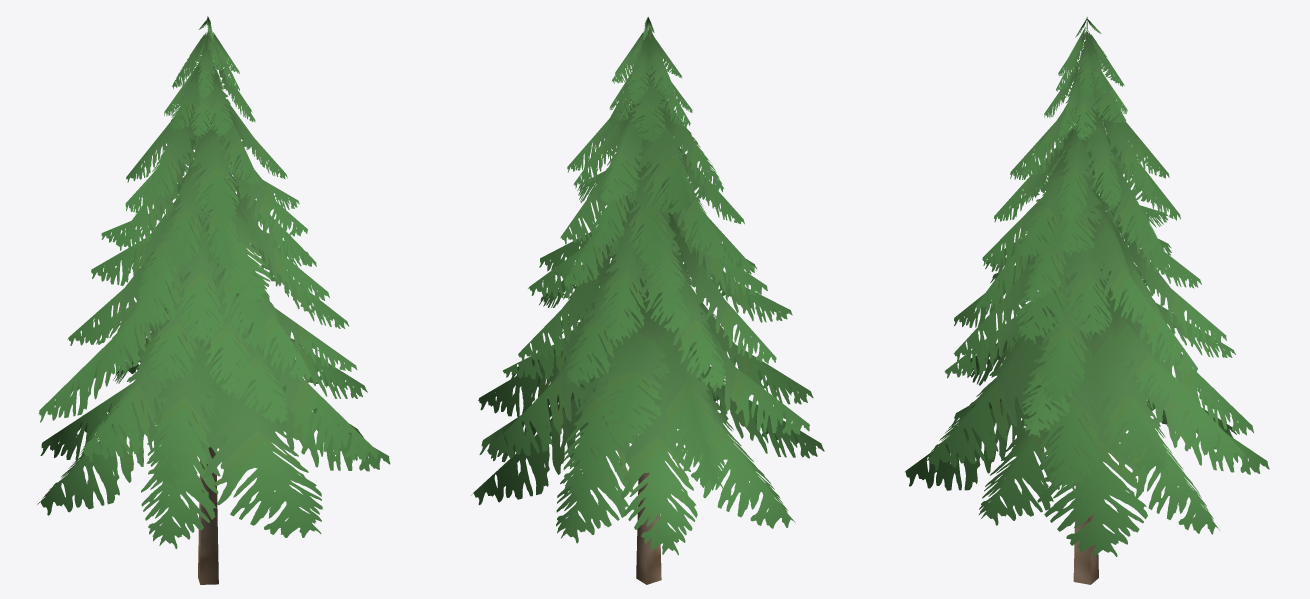
File: Spruce_3.fbx
3 renders of one model, left to right at view 1: azimuth 30°, elevation 25°; view 2: azimuth 150°, elevation 25°; view 3: azimuth 270°, elevation 25°, orthographic.
Visible parts, largest first — view 1: Spruce_3; view 2: Spruce_3; view 3: Spruce_3.
Part boxes in pixels (x1,y1,x2,y2): Spruce_3: [37, 16, 390, 584]; Spruce_3: [471, 17, 824, 584]; Spruce_3: [905, 17, 1269, 584].
Size of the model in its own units: 284 by 424 by 285.
